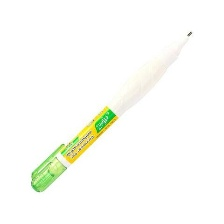correction_fluid: (28, 28, 194, 194)
